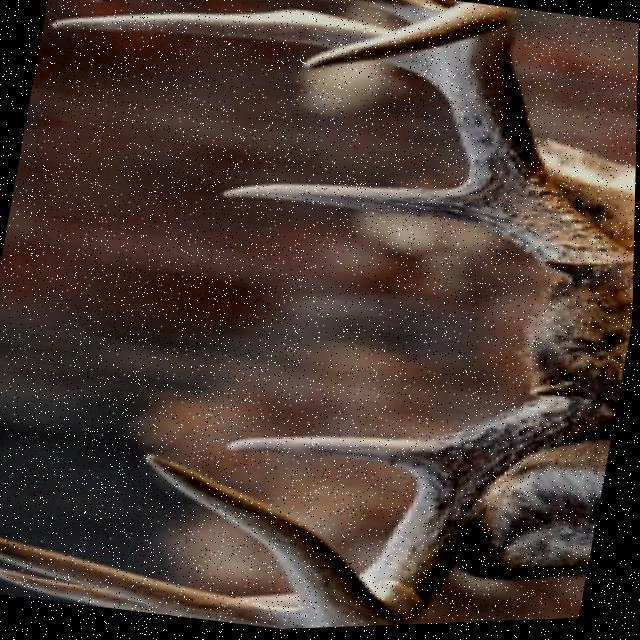L-F: (142, 401, 616, 630)
L-G1: (226, 438, 449, 484)
R-F: (299, 5, 635, 284)
R-G1: (218, 183, 496, 232)
